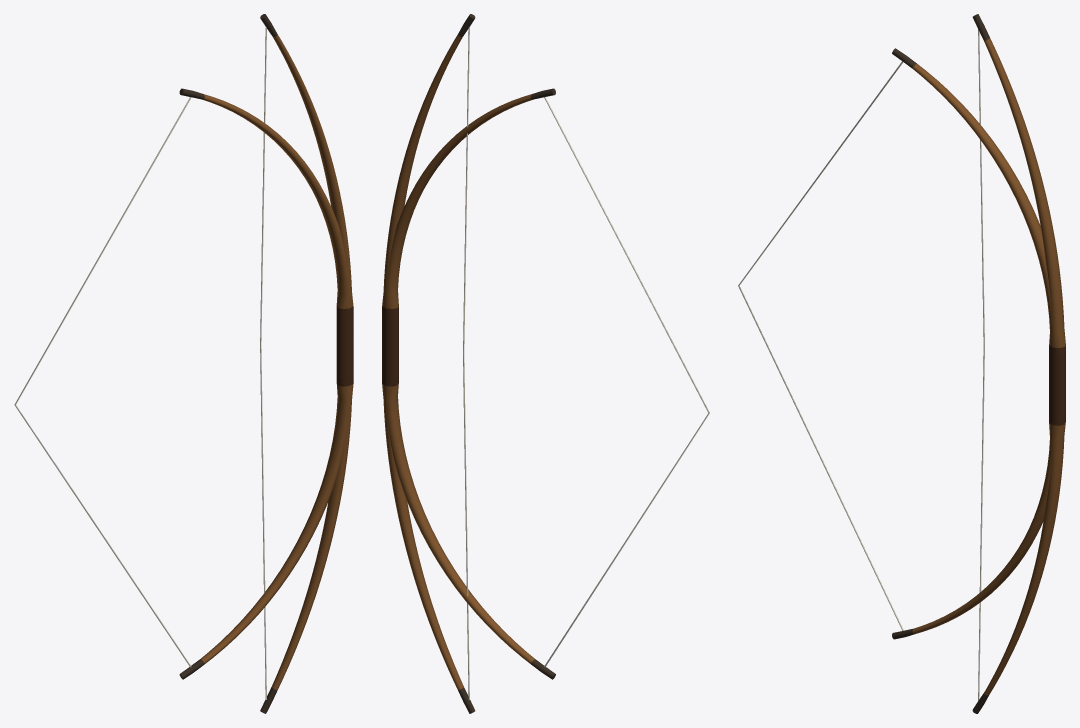
File: luk.glb
3 renders of one model, left to right at view 1: azimuth 30°, elevation 25°; view 2: azimuth 150°, elevation 25°; view 3: azimuth 330°, elevation 25°, orthographic.
Visible parts, largest first — view 1: volno, napnuto; view 2: volno, napnuto; view 3: volno, napnuto.
Boxes of the visible parts, x1=… form: volno: x1=260, y1=14, x2=353, y2=713; napnuto: x1=14, y1=88, x2=349, y2=679; volno: x1=382, y1=14, x2=475, y2=713; napnuto: x1=386, y1=88, x2=709, y2=679; volno: x1=972, y1=14, x2=1065, y2=713; napnuto: x1=738, y1=48, x2=1053, y2=639.
Size of the model in its own units: 0.7185 by 1.44 by 0.0393.
